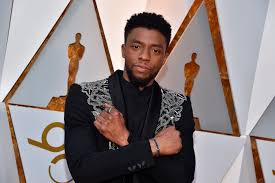s.black: (126, 51, 142, 65)
